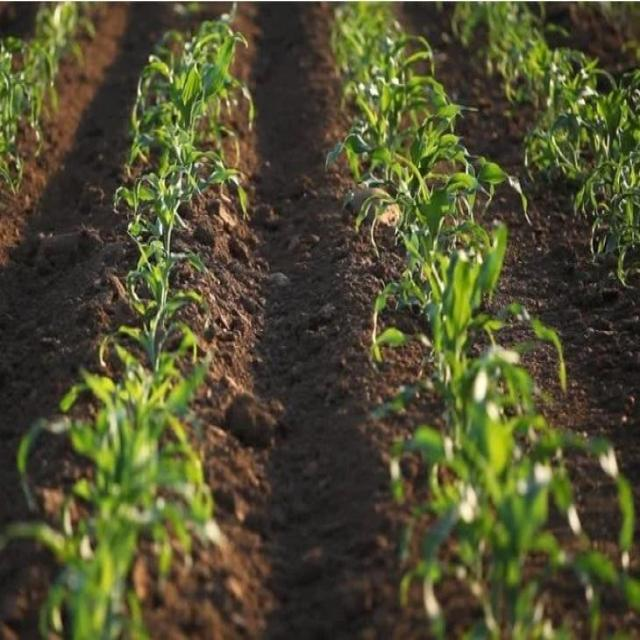row: (176, 2, 427, 640), (402, 0, 640, 632)
